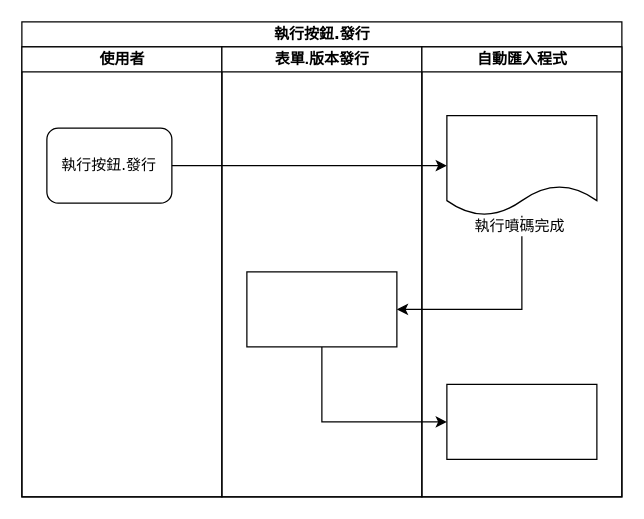
This 644x519 diagram has some shape labels left out. The centre of each missing label's shape, as x and y in pixels:
更改狀態 8.成品已批次產出: the point at 321,309
異動測試運行台 系統名稱: the point at 521,421
自動匯入流程: the point at 521,165
